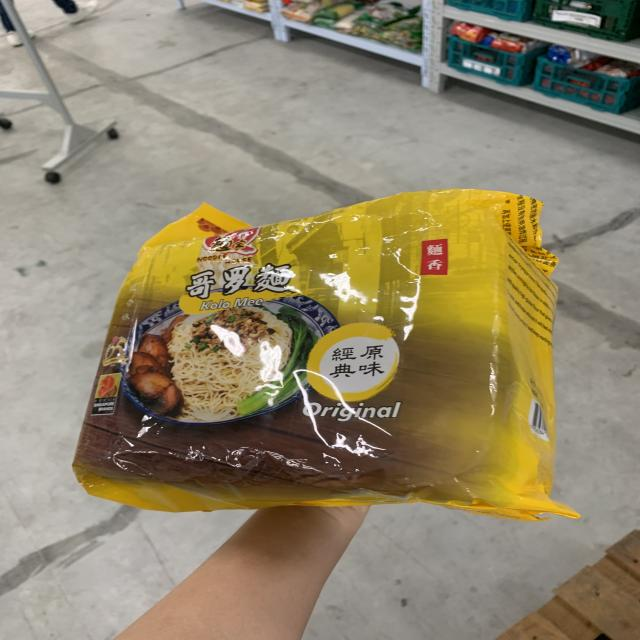object_name: (120, 220, 550, 503)
